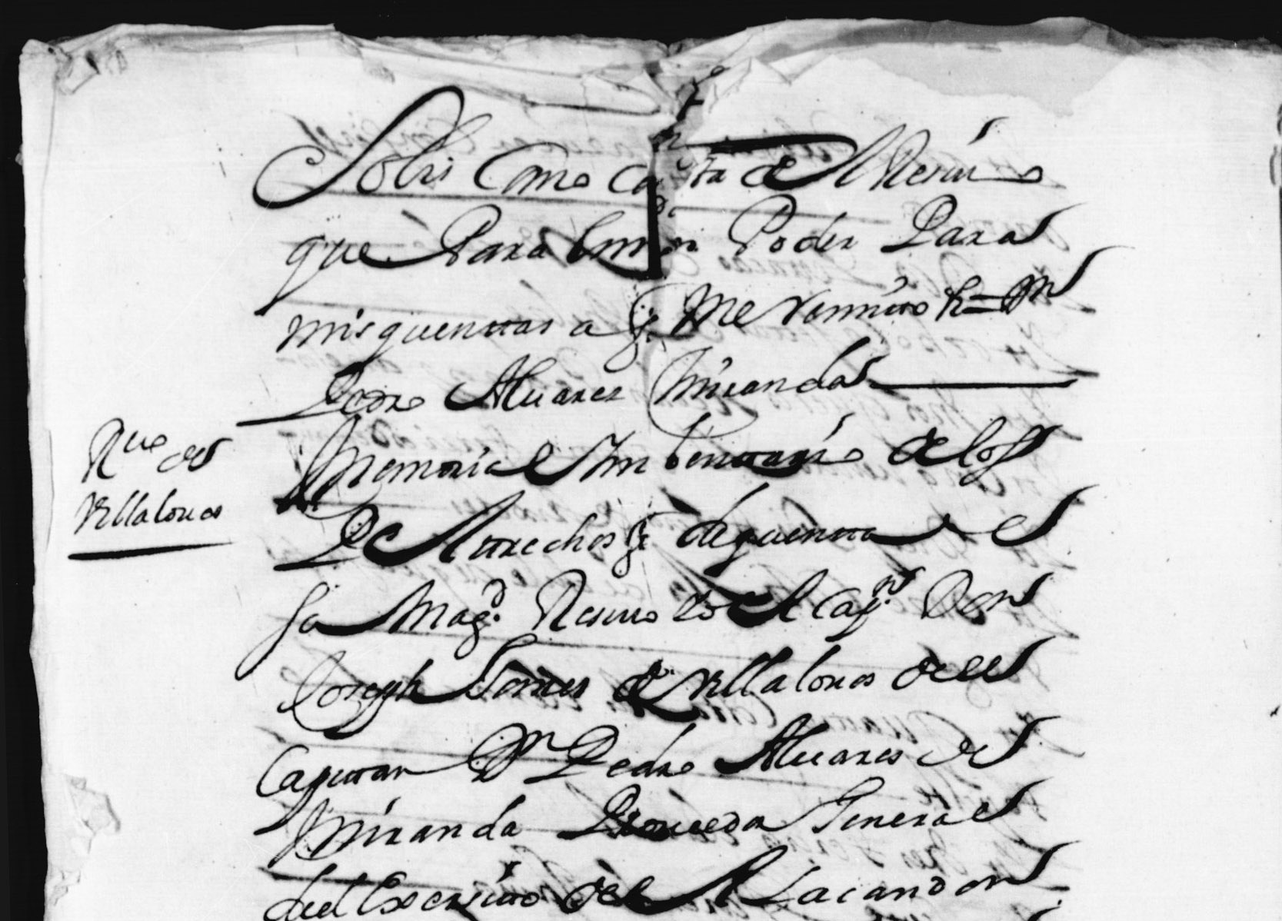lacandon: (739, 840, 1079, 906)
